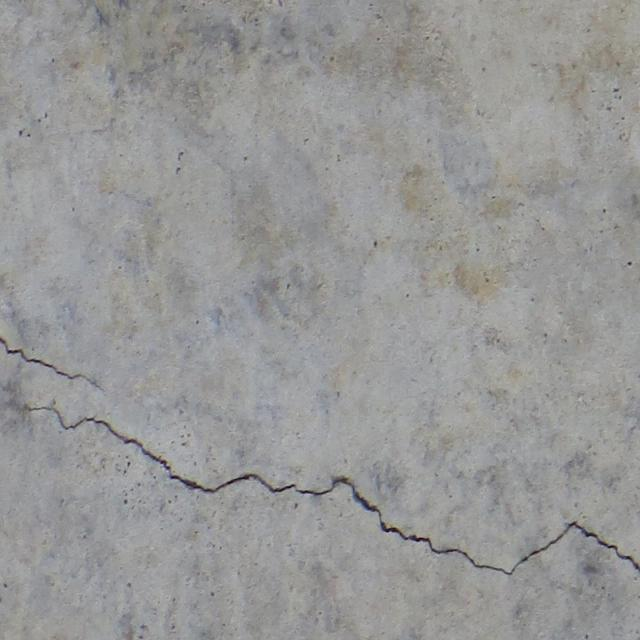diagonal crack: (24, 403, 640, 578), (0, 336, 103, 395)
